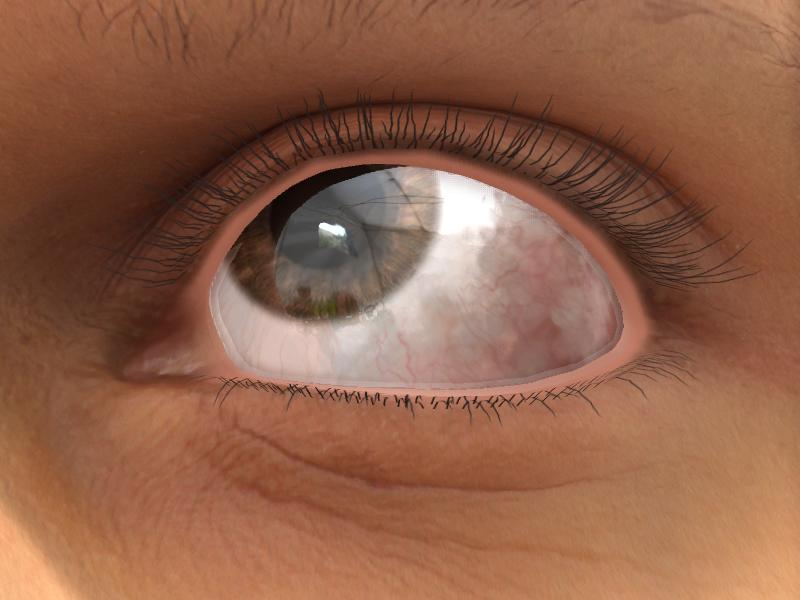eye: (226, 162, 441, 319)
